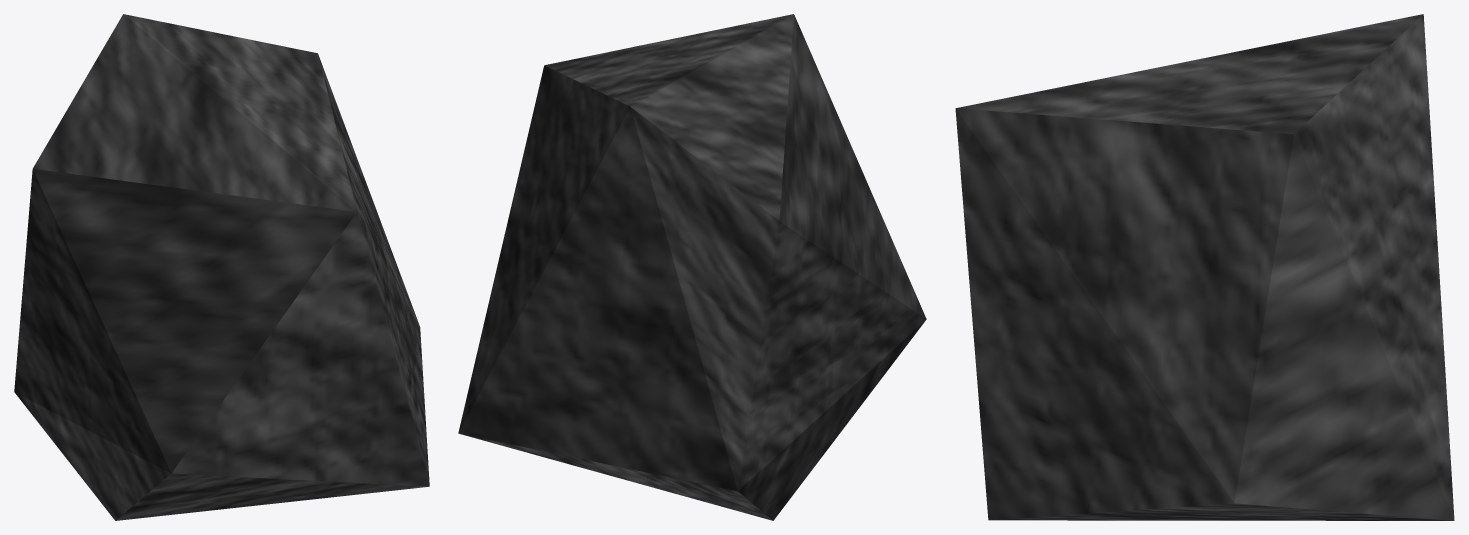
The model's file is CoalColision.glb.
3 views of the same model, side by side, from view 1: azimuth 30°, elevation 25°; view 2: azimuth 150°, elevation 25°; view 3: azimuth 270°, elevation 25° (orthographic). The views are drawn at different scales.
Visible parts, largest first — view 1: Cube; view 2: Cube; view 3: Cube.
Part boxes in pixels (<box>): Cube: <box>14,14,429,520</box>; Cube: <box>458,14,926,520</box>; Cube: <box>955,14,1454,520</box>.
Bounding box in the file's own units: 1.72 × 2.13 × 1.85.
Materials: 1 (1 with a texture image).
